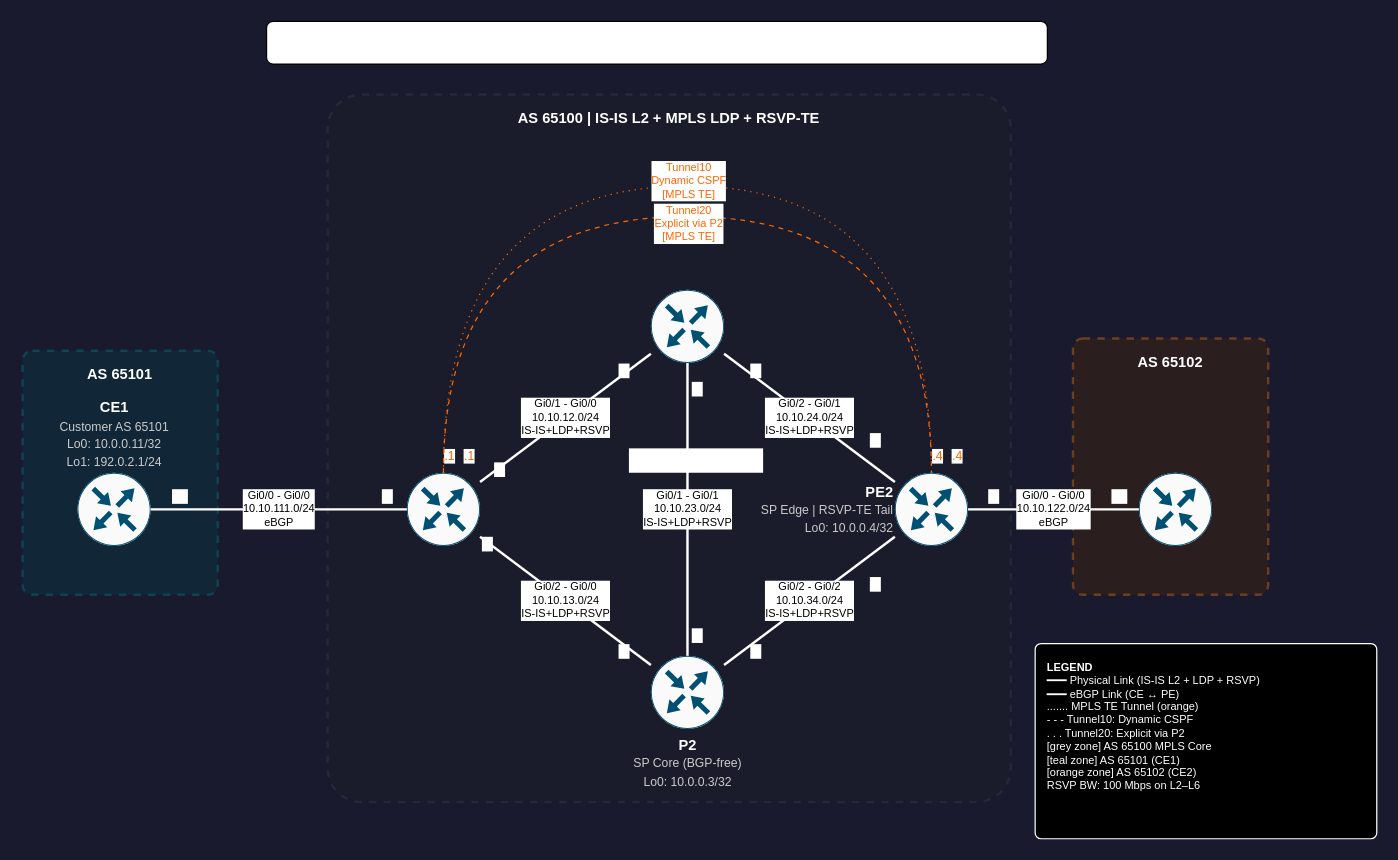
Image size: 1398x860. Some labels were removed from this diagram. The centre of each missing label's shape, as x and y in pixels:
CE2 Customer AS 65102 Lo0: 10.0.0.12/32 Lo1: 198.51.100.1/24: (1175,509)
iBGP + BGP-LU: (695,460)
P1 SP Core (BGP-free) Lo0: 10.0.0.2/32: (687,326)
PE1 SP Edge RSVP-TE Headend Lo0: 10.0.0.1/32: (443,509)
